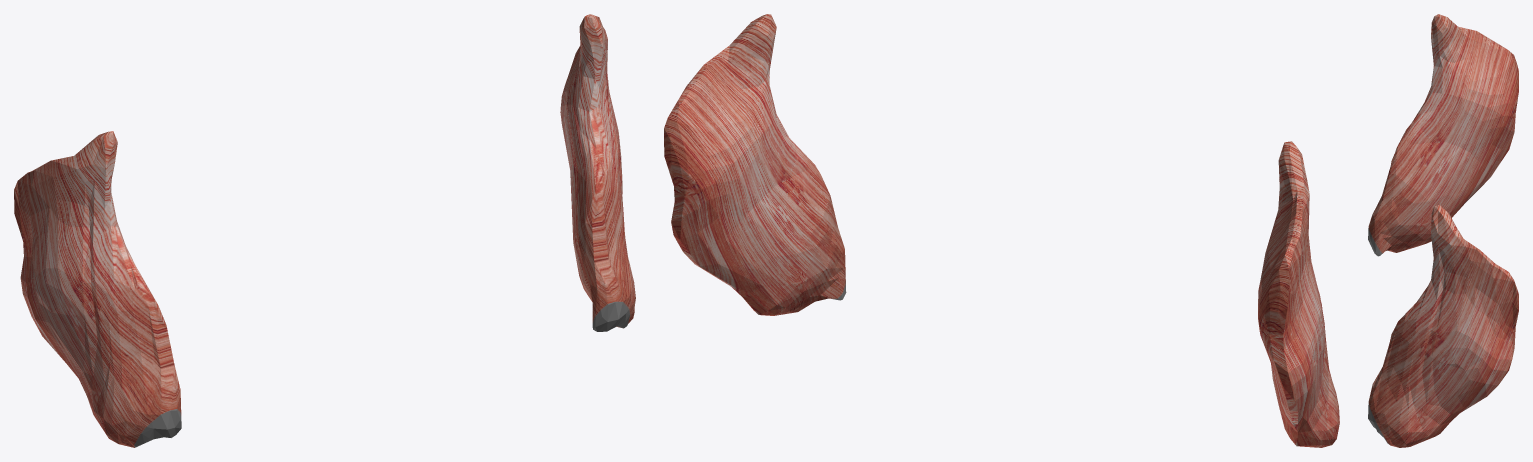
The model's file is Levator_Anguli_Oris.obj.
3 views of the same model, side by side, from view 1: azimuth 30°, elevation 25°; view 2: azimuth 150°, elevation 25°; view 3: azimuth 270°, elevation 25° (orthographic). The views are drawn at different scales.
Parts seen in each view (by area): view 1: Musculos_Cabeza_1:Levator_Anguli_Oris1; view 2: Musculos_Cabeza_1:Levator_Anguli_Oris1; view 3: Musculos_Cabeza_1:Levator_Anguli_Oris1.
Part boxes in pixels (left/top/right/bottom): Musculos_Cabeza_1:Levator_Anguli_Oris1: left=14, top=14, right=635, bottom=447; Musculos_Cabeza_1:Levator_Anguli_Oris1: left=664, top=14, right=1339, bottom=447; Musculos_Cabeza_1:Levator_Anguli_Oris1: left=1368, top=14, right=1518, bottom=447.
Size of the model in its own units: 0.2912 by 0.1418 by 0.0812.
Materials: 1 (1 with a texture image).
